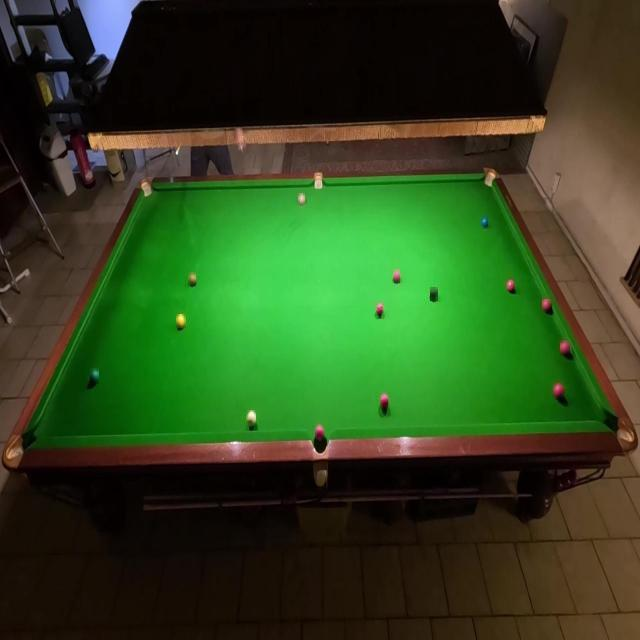Ball: (553, 382, 565, 400), (246, 410, 256, 428), (315, 424, 324, 442), (560, 340, 570, 356), (90, 368, 99, 384), (176, 314, 186, 328), (542, 300, 552, 314), (381, 392, 388, 410), (507, 278, 515, 292), (376, 304, 384, 318), (430, 287, 438, 301), (188, 272, 196, 286), (298, 193, 305, 206), (394, 269, 400, 283), (481, 218, 488, 230)
